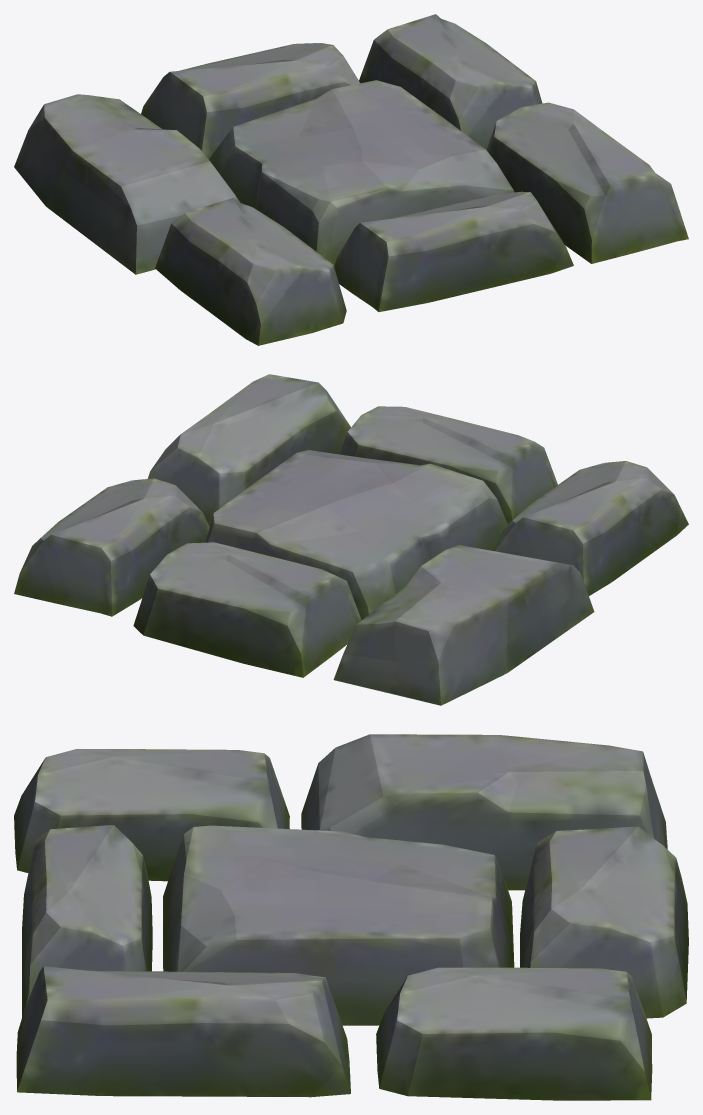
The model's file is sn_rock_path_square_small_2.glb.
3 renders of one model, top to bottom at view 1: azimuth 30°, elevation 25°; view 2: azimuth 150°, elevation 25°; view 3: azimuth 270°, elevation 25°, orthographic. The views are drawn at different scales.
Parts seen in each view (by area): view 1: RockPath_Square_Small_2; view 2: RockPath_Square_Small_2; view 3: RockPath_Square_Small_2.
Part boxes in pixels (x1=…): RockPath_Square_Small_2: x1=14, y1=14, x2=688, y2=345; RockPath_Square_Small_2: x1=14, y1=374, x2=688, y2=705; RockPath_Square_Small_2: x1=14, y1=734, x2=688, y2=1100.
Bounding box in the file's own units: 0.9927 × 0.1493 × 0.9661.
Materials: 1 (1 with a texture image).
